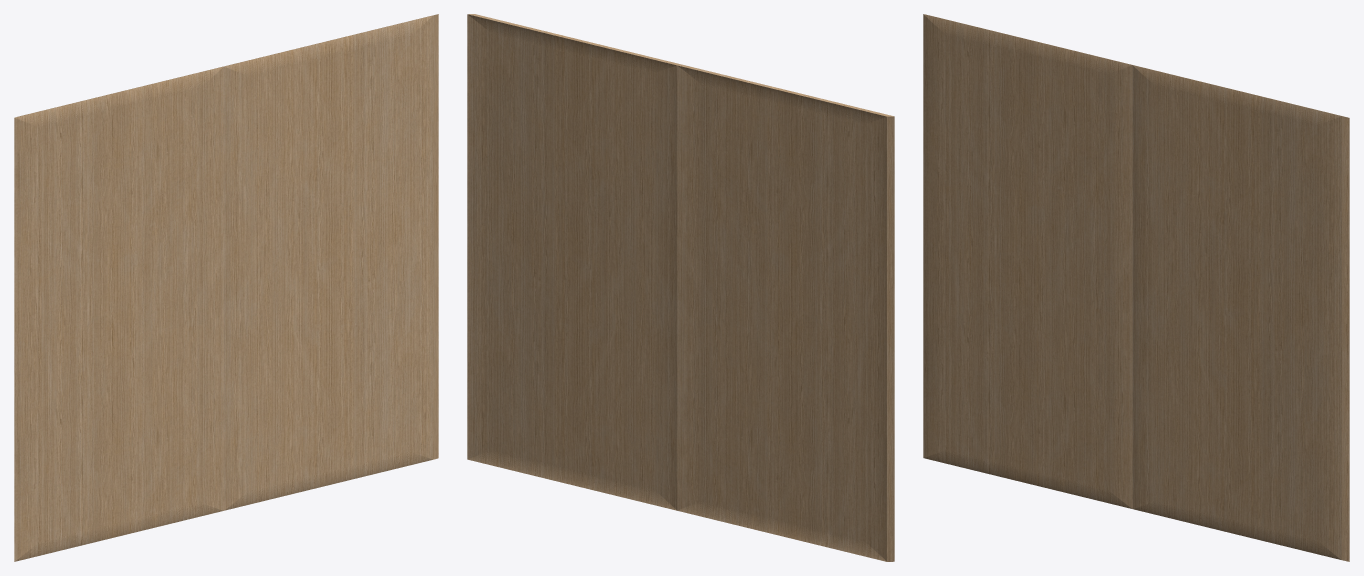
File: PG-203 - Grove.glb
3 renders of one model, left to right at view 1: azimuth 30°, elevation 25°; view 2: azimuth 150°, elevation 25°; view 3: azimuth 330°, elevation 25°, orthographic.
Visible parts, largest first — view 1: panel-parts4-.001; view 2: panel-parts4-.001; view 3: panel-parts4-.001.
Boxes of the visible parts, x1,y1,x2,y2 form: panel-parts4-.001: (14, 14, 438, 561); panel-parts4-.001: (467, 14, 894, 561); panel-parts4-.001: (923, 14, 1349, 561).
Size of the model in its own units: 2 by 2 by 0.016.
1 material, 1 textured.
